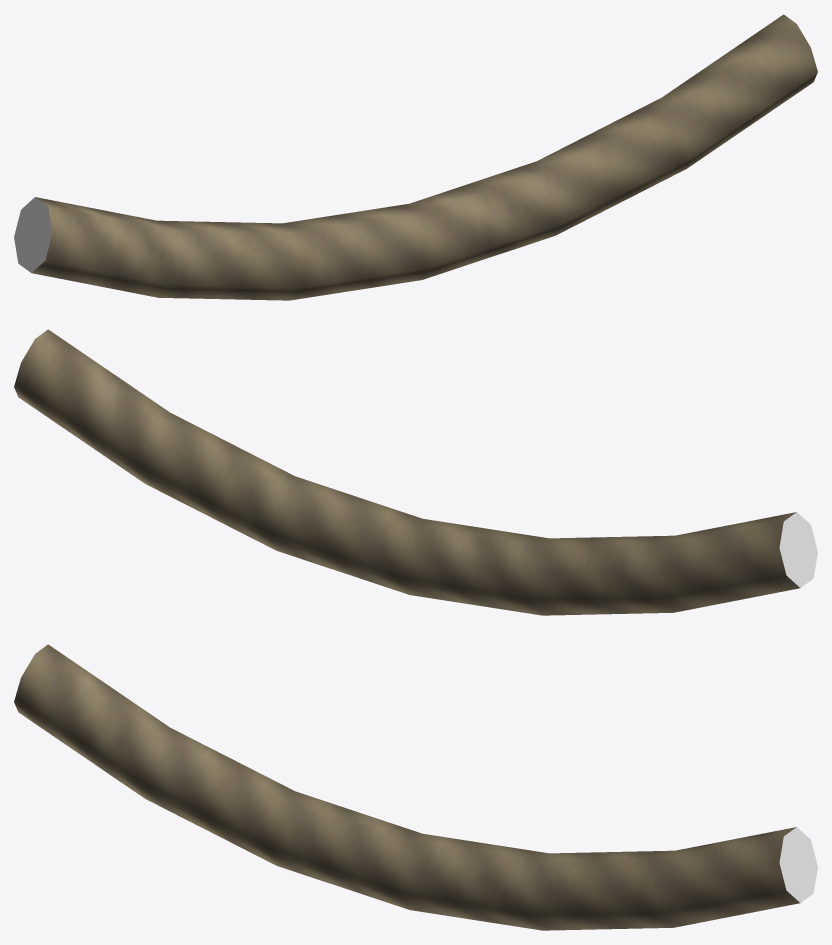
The model's file is Docks_Railing_Rope_Basic_1_1x1.glb.
The picture shows the model from 3 angles, top to bottom: view 1: azimuth 30°, elevation 25°; view 2: azimuth 150°, elevation 25°; view 3: azimuth 330°, elevation 25°; orthographic projection.
Visible parts, largest first — view 1: Docks_Railing_Rope_Basic_1_1x1; view 2: Docks_Railing_Rope_Basic_1_1x1; view 3: Docks_Railing_Rope_Basic_1_1x1.
Part boxes in pixels (<box>): Docks_Railing_Rope_Basic_1_1x1: <box>14,14,817,300</box>; Docks_Railing_Rope_Basic_1_1x1: <box>14,329,817,615</box>; Docks_Railing_Rope_Basic_1_1x1: <box>14,644,817,930</box>.
Size of the model in its own units: 0.8942 by 0.18 by 0.0625.
Materials: 2 (1 with a texture image).
